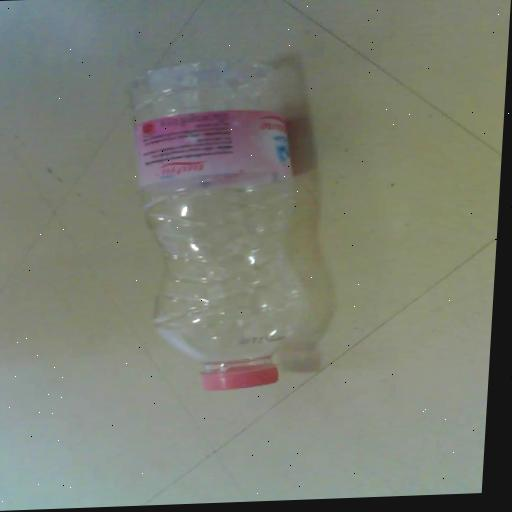bottle: (100, 40, 352, 412)
